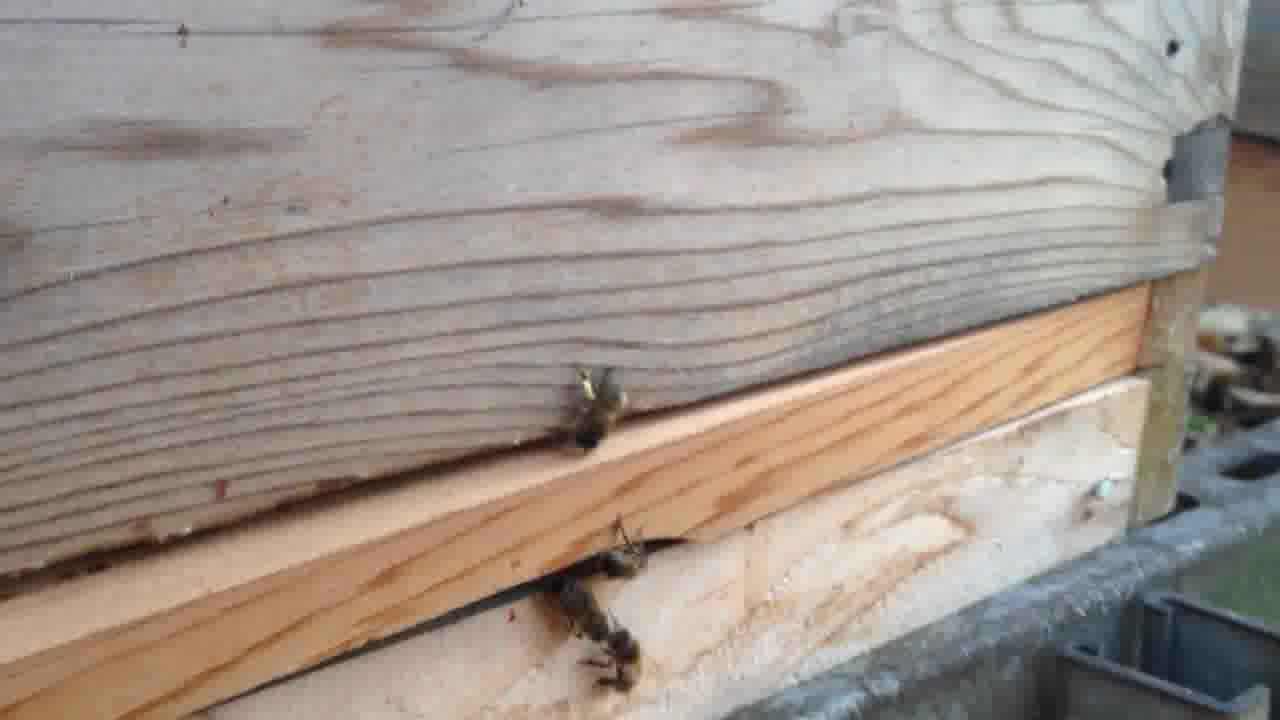pollen: (565, 362, 630, 442)
